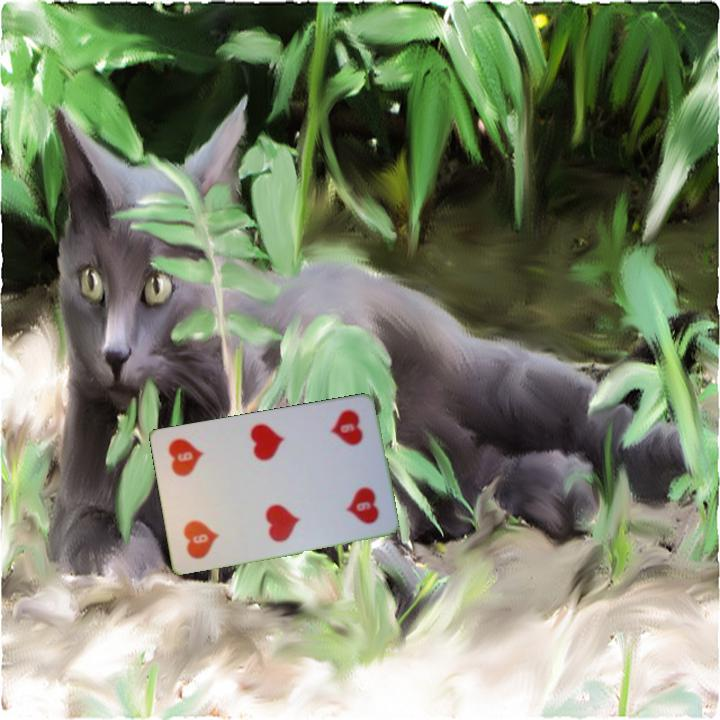h_6.png: (311, 403, 379, 478), (170, 489, 238, 564)
